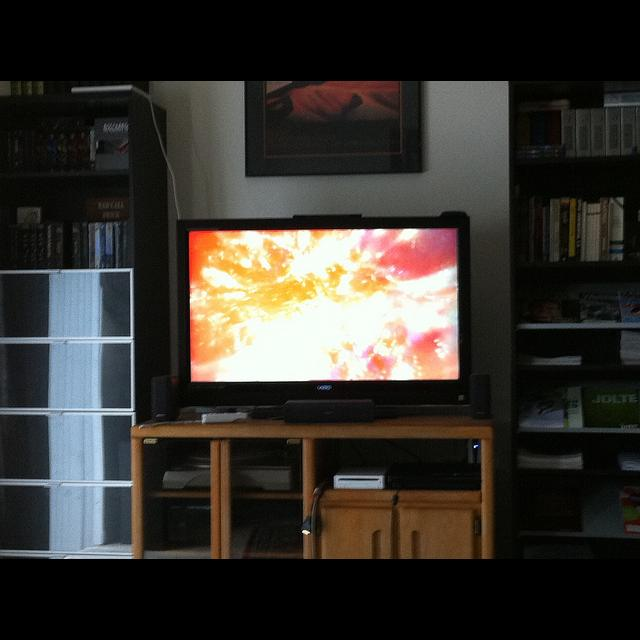Flat-Panel-TV: (169, 210, 478, 416)
